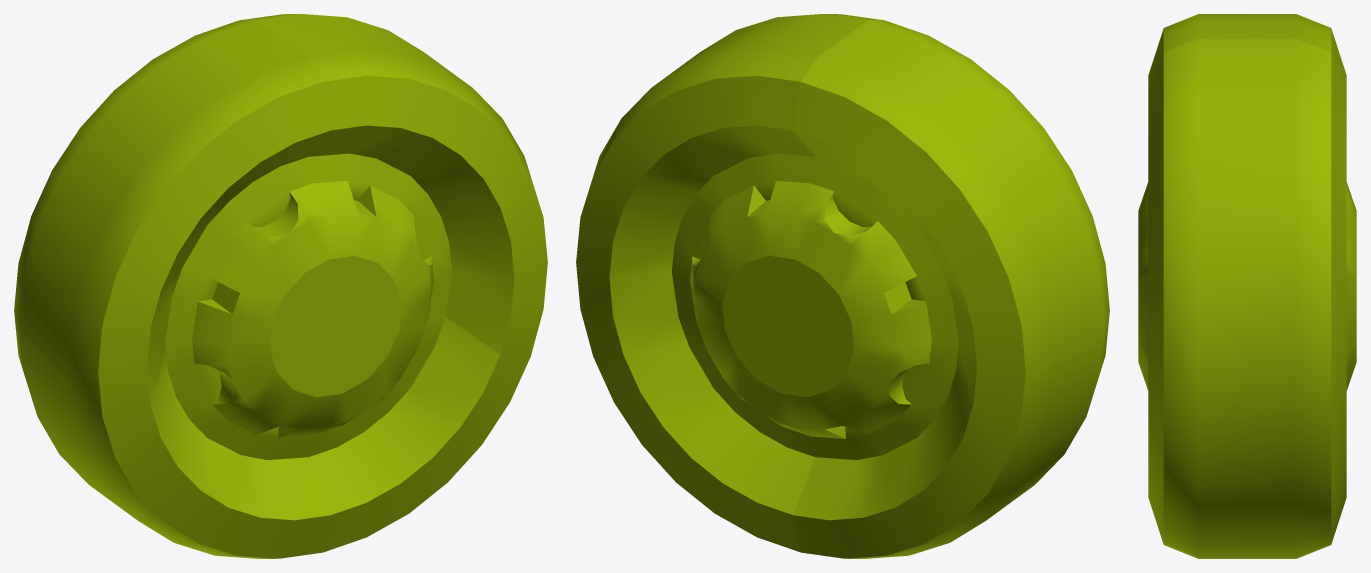
File: obj_vehicle_gripwheel_7x_lod1.fbx
3 views of the same model, side by side, from view 1: azimuth 30°, elevation 25°; view 2: azimuth 150°, elevation 25°; view 3: azimuth 270°, elevation 25° (orthographic).
Parts seen in each view (by area): view 1: gripwheel_7x_lod1.001; view 2: gripwheel_7x_lod1.001; view 3: gripwheel_7x_lod1.001.
Part boxes in pixels (x1=…): gripwheel_7x_lod1.001: x1=14, y1=14, x2=547, y2=558; gripwheel_7x_lod1.001: x1=576, y1=14, x2=1109, y2=558; gripwheel_7x_lod1.001: x1=1138, y1=14, x2=1356, y2=558.
Bounding box in the file's own units: 5 × 5 × 2.
